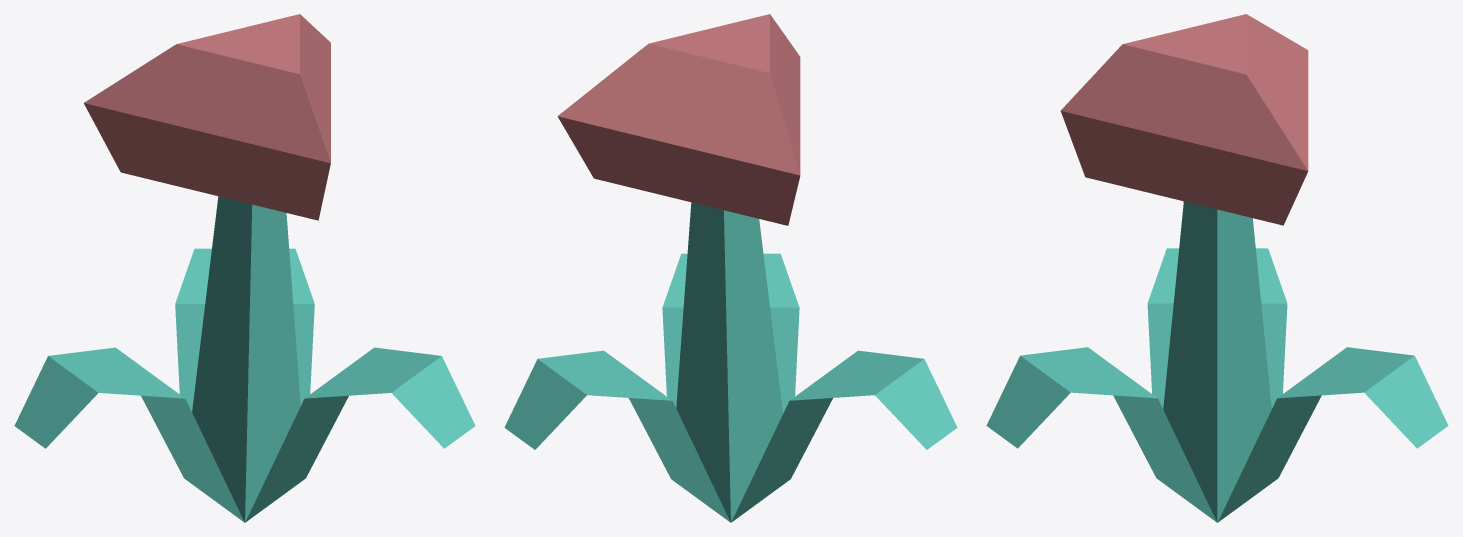
The model's file is flower_redB.glb.
3 renders of one model, left to right at view 1: azimuth 30°, elevation 25°; view 2: azimuth 150°, elevation 25°; view 3: azimuth 270°, elevation 25°, orthographic.
Parts seen in each view (by area): view 1: flower_redB; view 2: flower_redB; view 3: flower_redB.
Boxes of the visible parts, left/top/right/bottom form: flower_redB: left=14, top=14, right=475, bottom=522; flower_redB: left=504, top=14, right=957, bottom=522; flower_redB: left=986, top=14, right=1448, bottom=522.
Size of the model in its own units: 0.2073 by 0.2585 by 0.2392.
